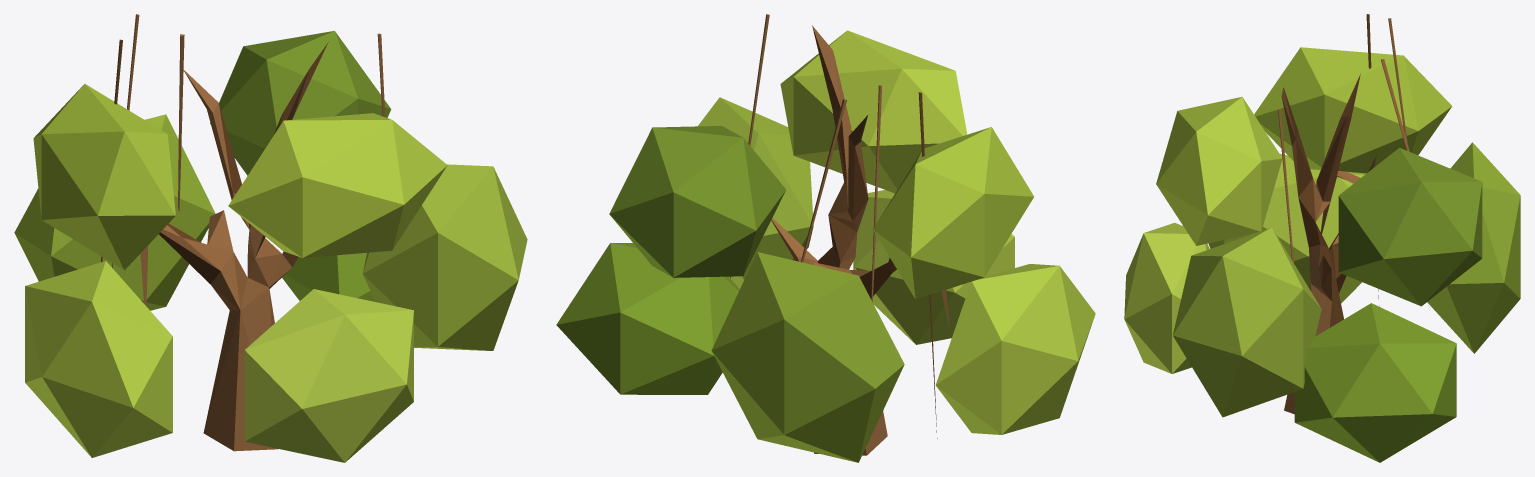
The model's file is willow_bloom_far.glb.
The picture shows the model from 3 angles, left to right: view 1: azimuth 30°, elevation 25°; view 2: azimuth 150°, elevation 25°; view 3: azimuth 270°, elevation 25°; orthographic projection. The views are drawn at different scales.
Parts seen in each view (by area): view 1: willow_bloom_far; view 2: willow_bloom_far; view 3: willow_bloom_far.
Part boxes in pixels (left/top/right/bottom): willow_bloom_far: left=14, top=14, right=527, bottom=462; willow_bloom_far: left=556, top=14, right=1095, bottom=462; willow_bloom_far: left=1124, top=14, right=1520, bottom=462.
Size of the model in its own units: 7.98 by 6.72 by 6.74.
